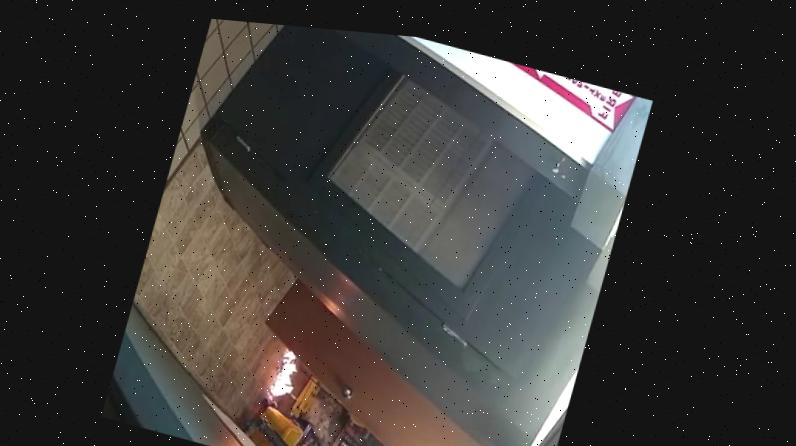fire: (252, 306, 322, 415)
